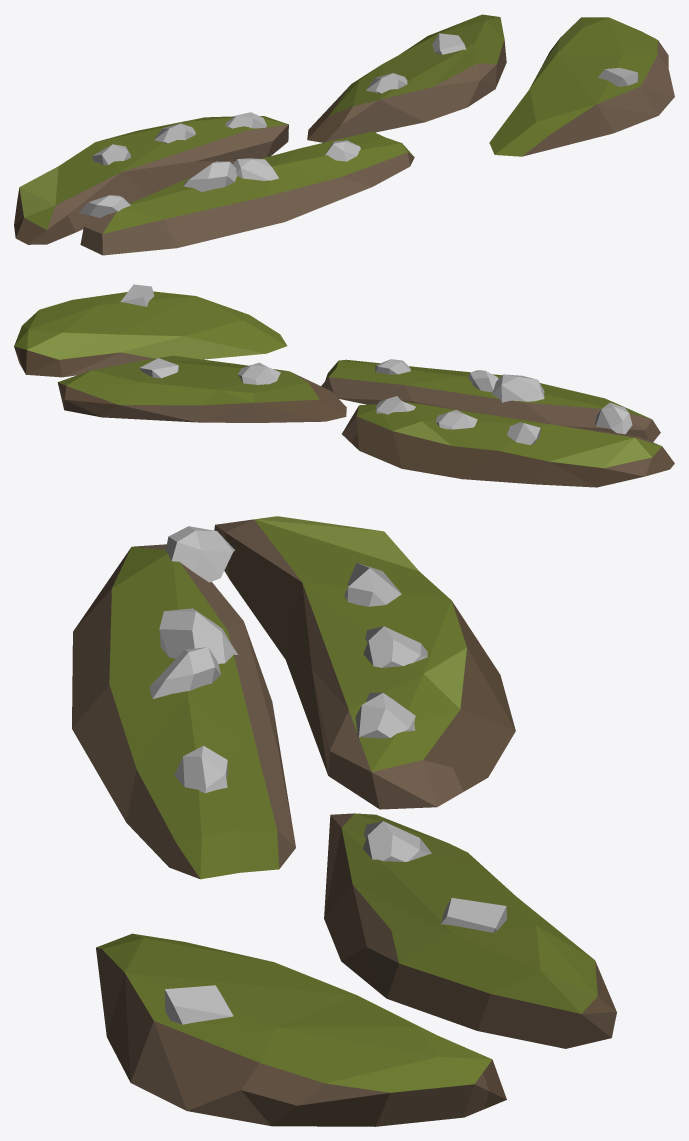
The model's file is EA03_Environment_RoadIsland_08.glb.
3 views of the same model, one above another, from view 1: azimuth 30°, elevation 25°; view 2: azimuth 150°, elevation 25°; view 3: azimuth 270°, elevation 25° (orthographic). The views are drawn at different scales.
Visible parts, largest first — view 1: EA03_Environment_RoadIsland_08; view 2: EA03_Environment_RoadIsland_08; view 3: EA03_Environment_RoadIsland_08.
Boxes of the visible parts, x1,y1,x2,y2 form: EA03_Environment_RoadIsland_08: [14, 14, 674, 255]; EA03_Environment_RoadIsland_08: [14, 284, 674, 487]; EA03_Environment_RoadIsland_08: [72, 516, 616, 1126].
Size of the model in its own units: 8.56 by 0.5656 by 3.28.
Materials: 1 (1 with a texture image).
